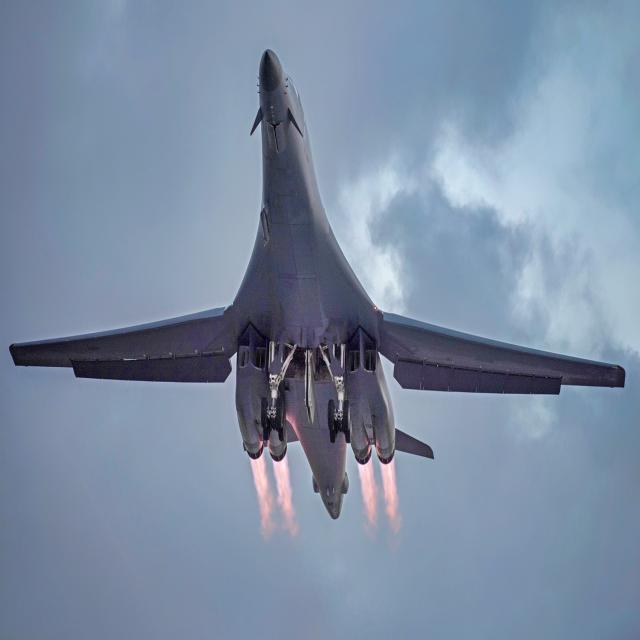A10: (8, 34, 628, 549)
B1: (14, 35, 629, 535)
